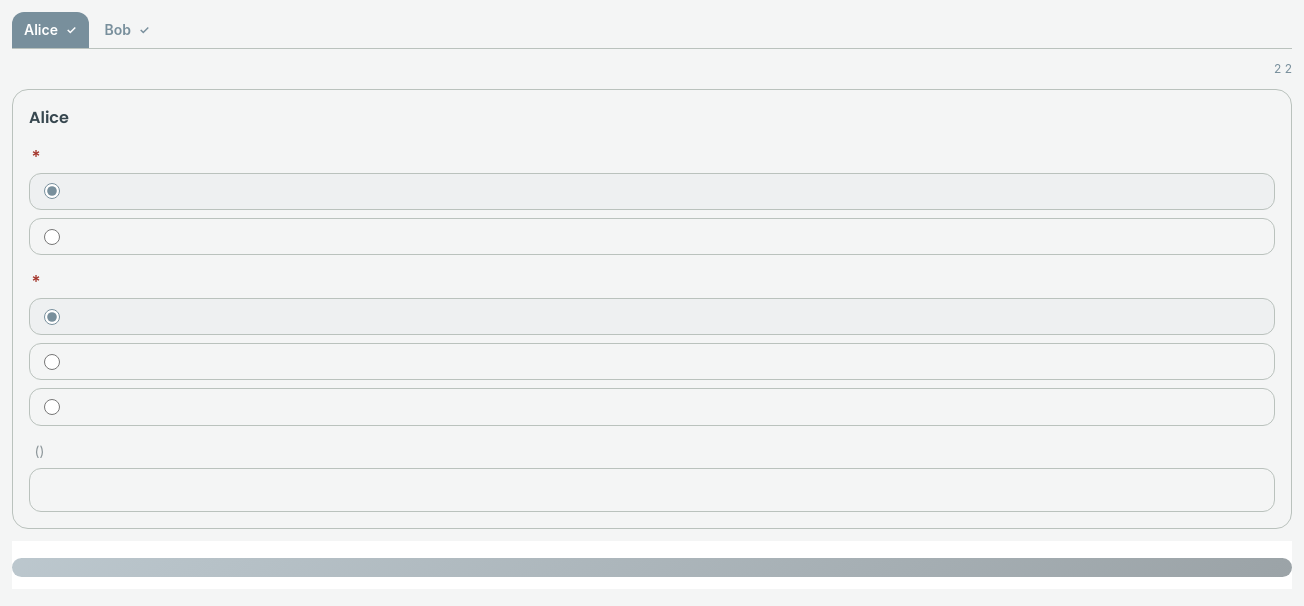
Test: GuestGroupRsvpForm › disables the submit again once the changed answer is restored
Click the 2nd radio button at (52, 237), box [44,229,60,245]
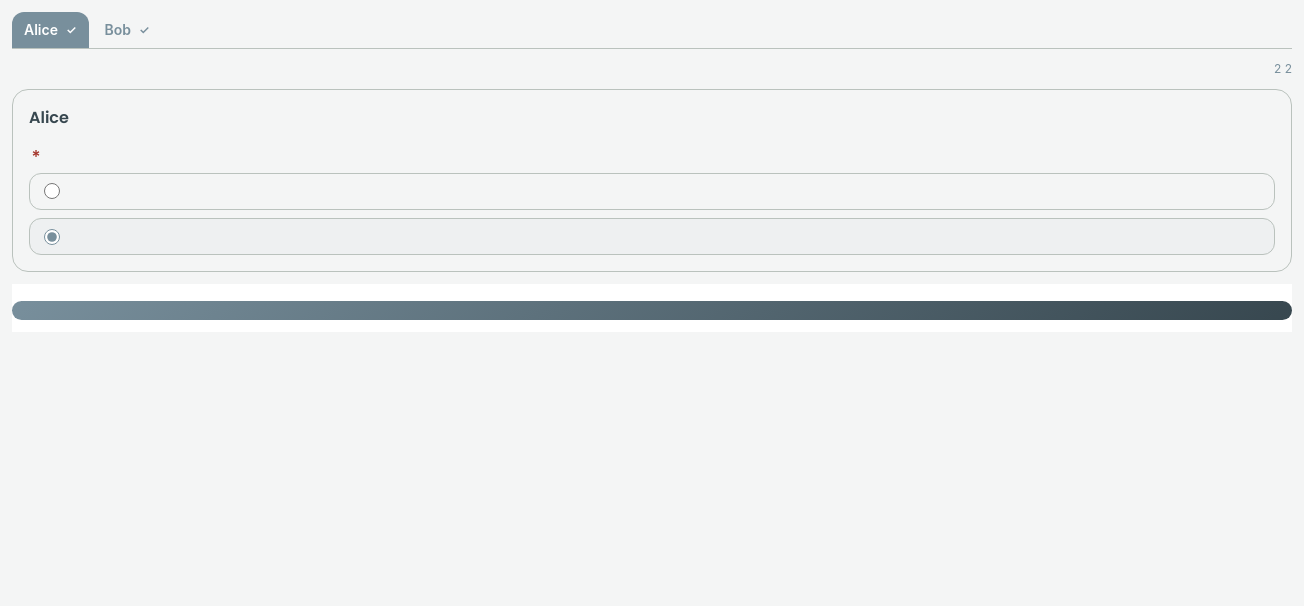
Click the 1st radio button at (52, 191), box [44,183,60,199]
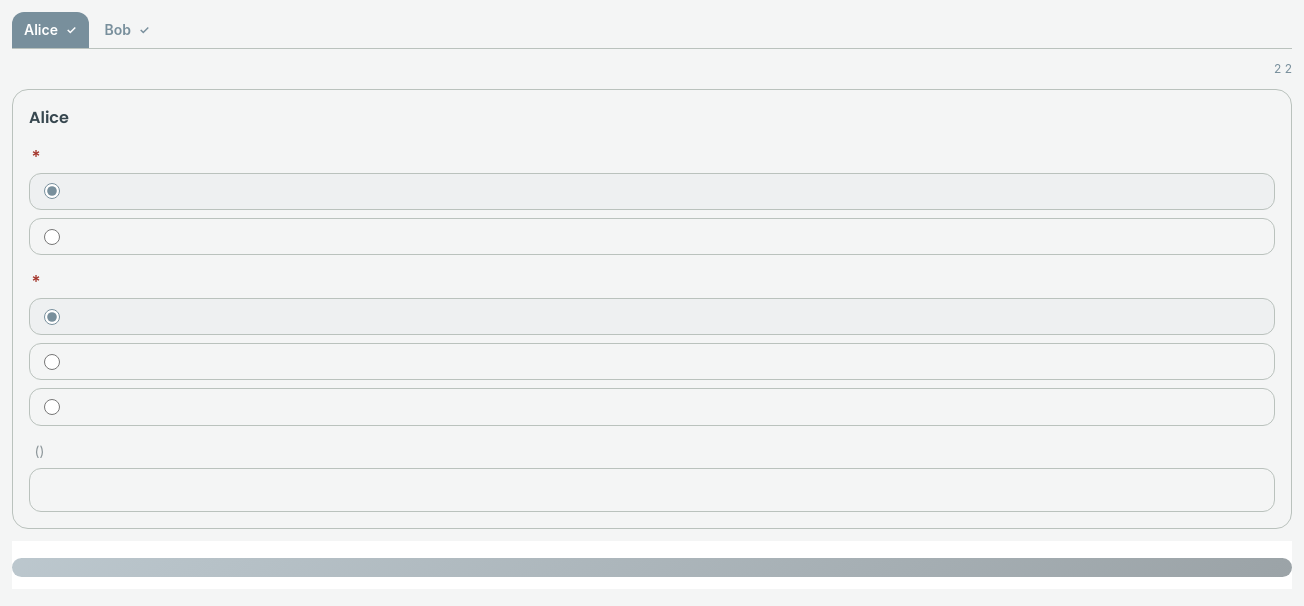
Result: the submit button is disabled at [12,558,1292,577]
